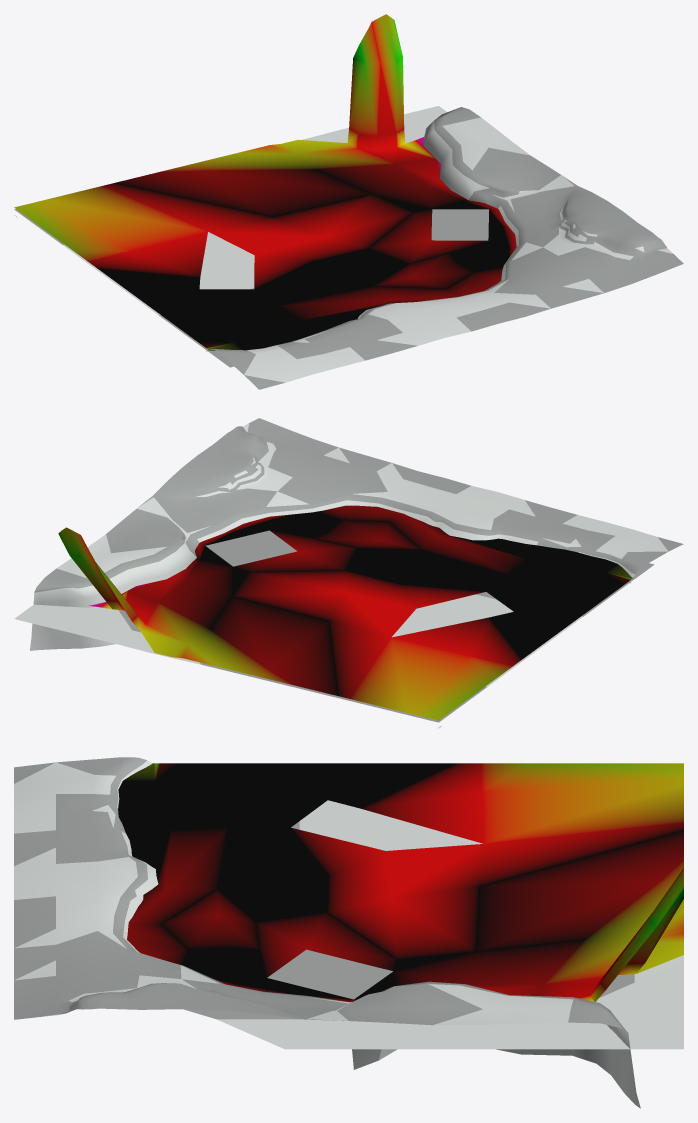
3 renders of one model, top to bottom at view 1: azimuth 30°, elevation 25°; view 2: azimuth 150°, elevation 25°; view 3: azimuth 270°, elevation 25°, orthographic. The views are drawn at different scales.
Visible parts, largest first — view 1: G:\FFXIV-MapTools\exports\g3f2\bg\ex2\01_gyr_g3\fld\g3f2\bgp (×8); view 2: G:\FFXIV-MapTools\exports\g3f2\bg\ex2\01_gyr_g3\fld\g3f2\bgp (×8); view 3: G:\FFXIV-MapTools\exports\g3f2\bg\ex2\01_gyr_g3\fld\g3f2\bgp (×8).
Part boxes in pixels (left/top/right/bottom): G:\FFXIV-MapTools\exports\g3f2\bg\ex2\01_gyr_g3\fld\g3f2\bgp (×8): left=14, top=14, right=683, bottom=389; G:\FFXIV-MapTools\exports\g3f2\bg\ex2\01_gyr_g3\fld\g3f2\bgp (×8): left=14, top=418, right=683, bottom=728; G:\FFXIV-MapTools\exports\g3f2\bg\ex2\01_gyr_g3\fld\g3f2\bgp (×8): left=14, top=757, right=683, bottom=1108.
Size of the model in its own units: 128 by 44.67 by 128.
